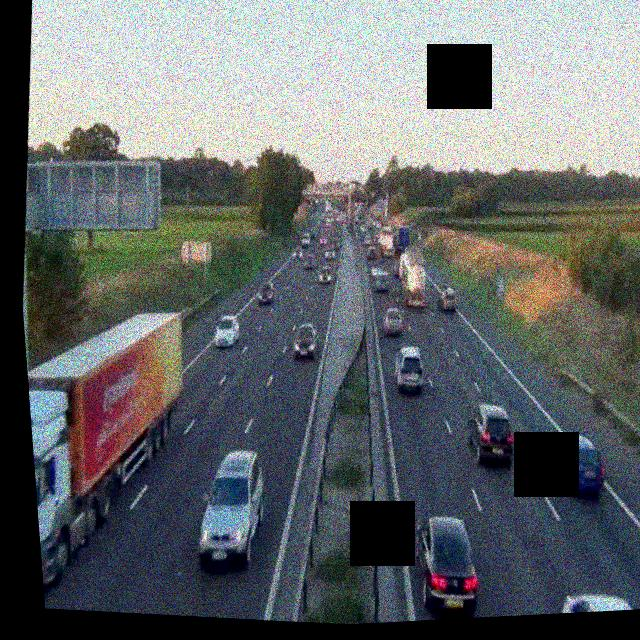car: (190, 444, 274, 572), (405, 512, 486, 621), (543, 428, 609, 499), (464, 401, 519, 469), (558, 586, 640, 613), (391, 343, 428, 396), (290, 320, 320, 360), (211, 312, 241, 348), (382, 306, 407, 337), (438, 286, 459, 313), (256, 279, 276, 306), (370, 268, 390, 293), (317, 263, 333, 284), (302, 251, 315, 270), (325, 245, 338, 261), (365, 245, 377, 260), (293, 245, 304, 259)
truck: (22, 294, 208, 608), (393, 248, 433, 309), (391, 219, 414, 256)
